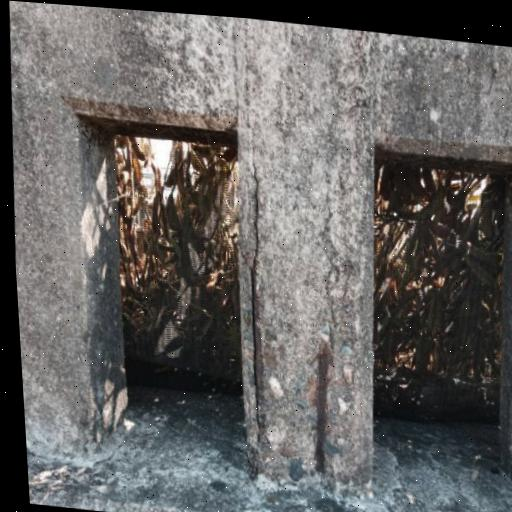exposed_rebar: (252, 263, 265, 430), (314, 346, 330, 473)
